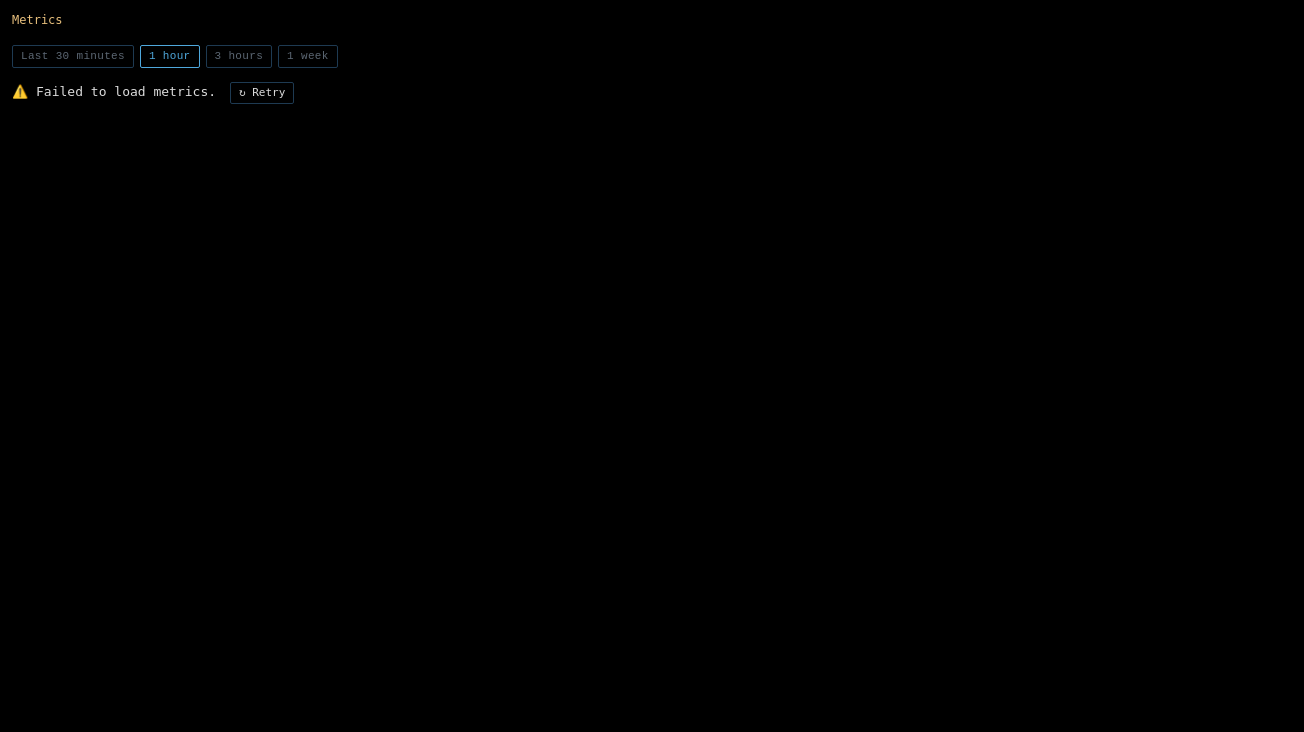
Test: ComputeEngineTabContent — Metrics tab (lazy-loaded ComputeEngineMetricsTab) › shows the shared ErrorRetry error state on failure, and Retry recovers to the loaded state
The image size is (1304, 732).
Check: the text "⚠️ Failed to load metrics. ↻ Retry" is shown, box [12,82,294,104]
Step 1. Click the button "↻ Retry" → x=262, y=93, box [230,82,294,104]
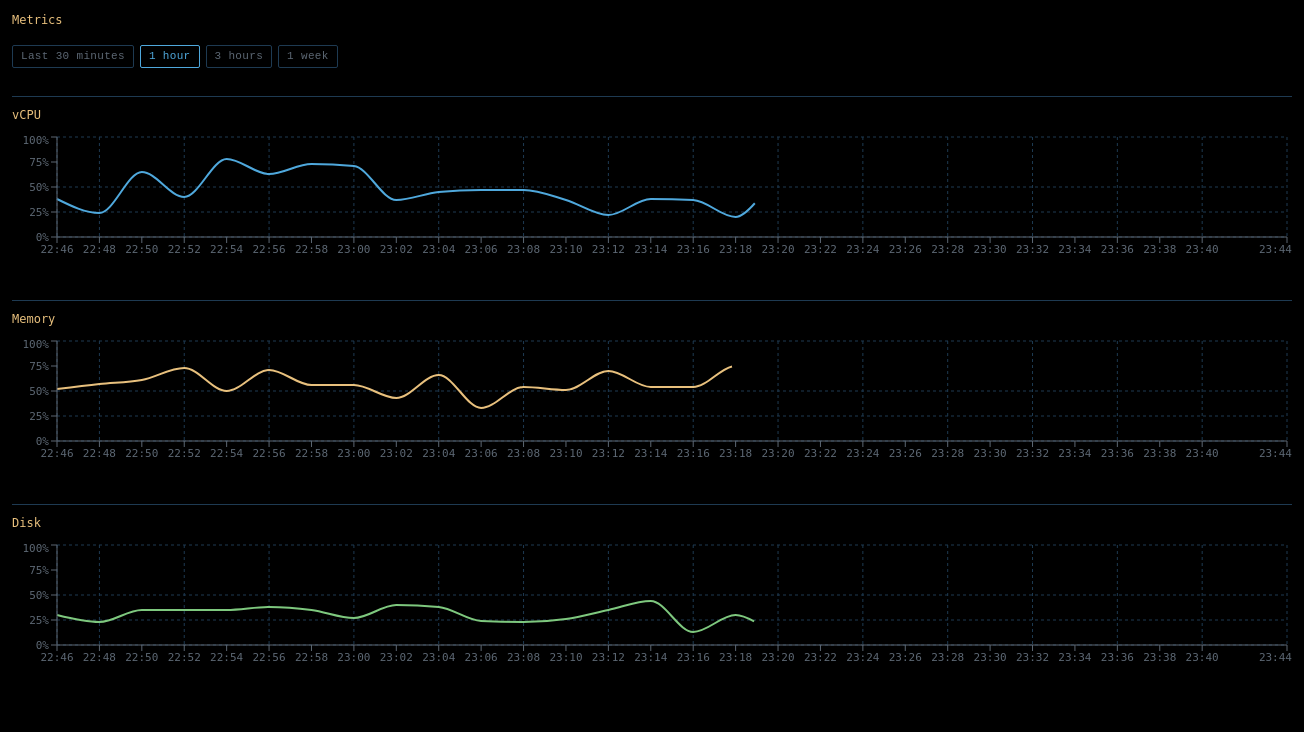
Check: the text "vCPU" is shown, box [12,96,1292,124]
Check: the text "Failed to load metrics." is gone
